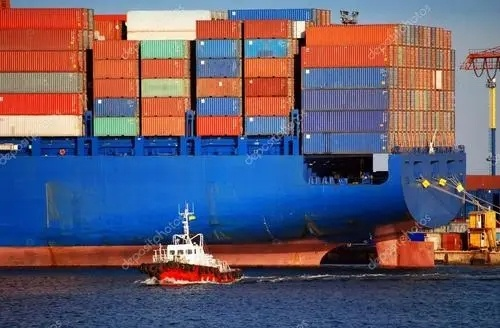Cargoship: (1, 1, 478, 273)
otherboat: (138, 215, 250, 281)
